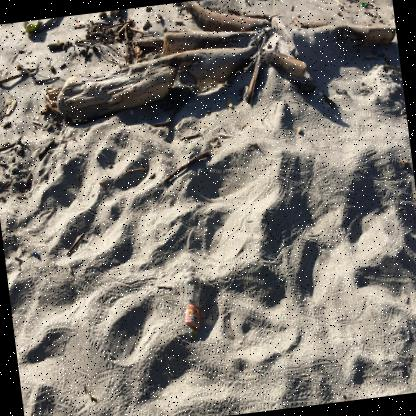Clear plastic bottle: (184, 271, 200, 339)
